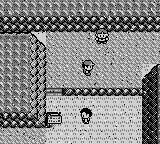leer: (46, 112, 62, 127)
main: (82, 61, 95, 75)
no-caminable: (1, 34, 46, 128), (142, 65, 160, 143)
npc: (95, 29, 109, 44), (80, 108, 92, 124)
salto: (62, 88, 142, 95)
